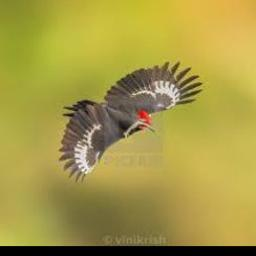Woodpecker: (58, 61, 204, 183)
